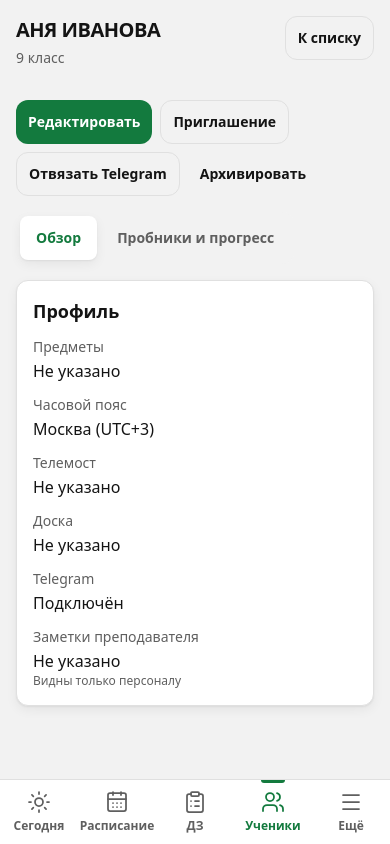
Test: Вкладка «Пробники и прогресс» карточки ученика › открывается по вкладке: запрос отчёта ученика и кнопка ввода пробника
This screenshot has width=390, height=844.
Press the mouse on the tab "Пробники и прогресс": (196, 238) left=101, top=216, right=290, bottom=260
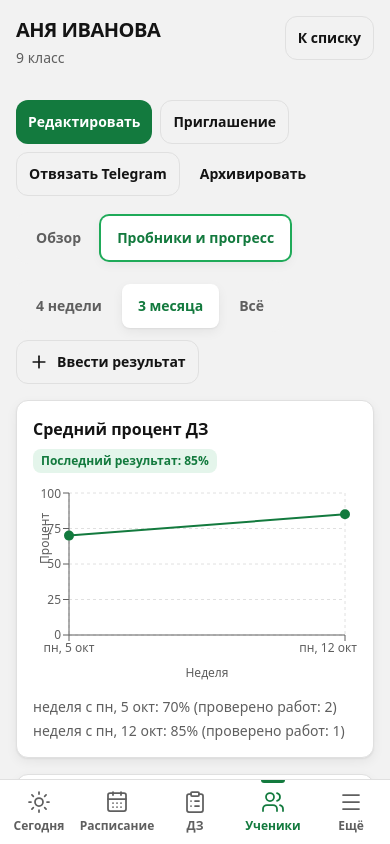
Expected: the button "Ввести результат" is shown, left=16, top=340, right=199, bottom=384
